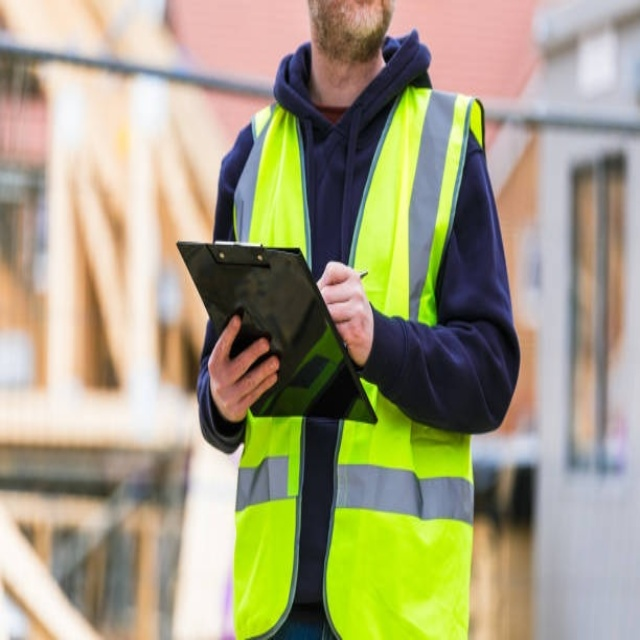Sin_guantes: (207, 311, 280, 423), (313, 251, 373, 367)
